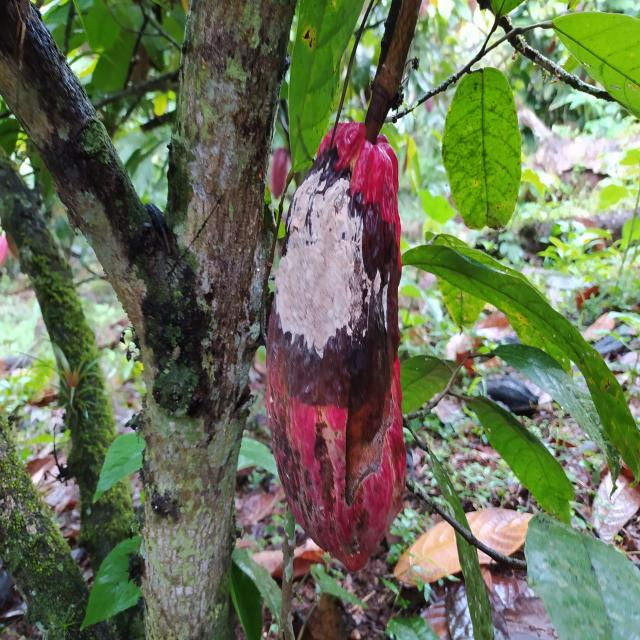Monilia: (266, 122, 408, 575)
